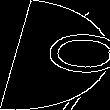O_W: (5, 29, 105, 81)
